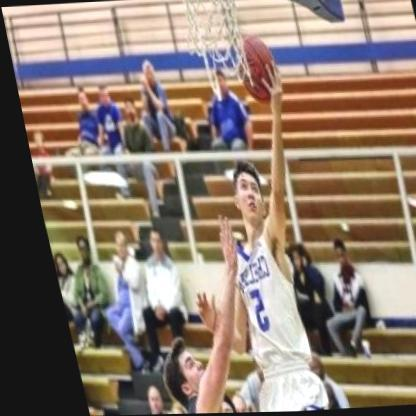basketball: (227, 36, 282, 106)
